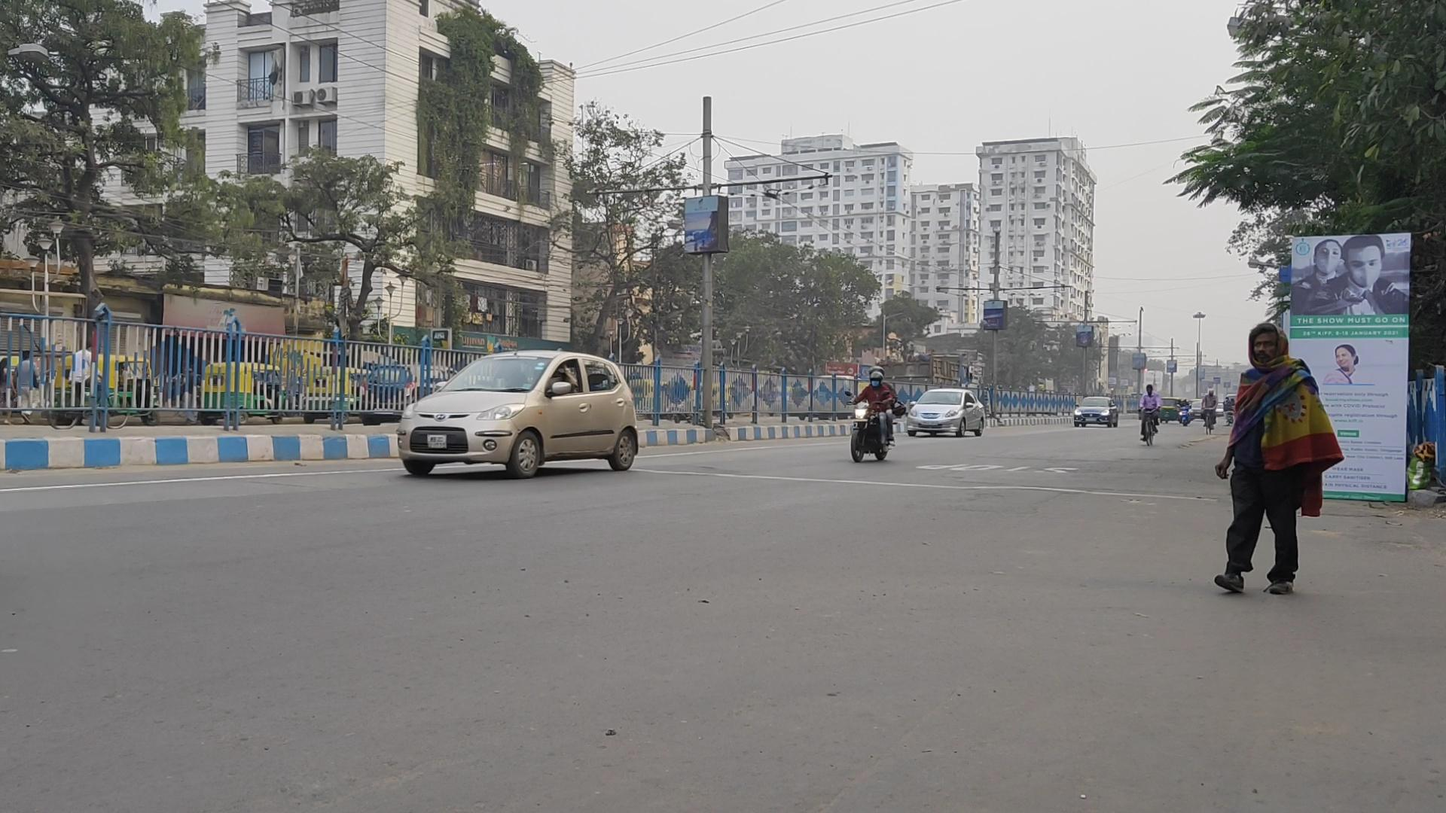Auto: (1160, 396, 1182, 424)
bike: (844, 364, 909, 463), (1139, 384, 1161, 447), (1202, 388, 1219, 435), (1178, 398, 1192, 426)
car: (395, 349, 639, 480), (908, 387, 987, 439), (1072, 395, 1121, 429)
